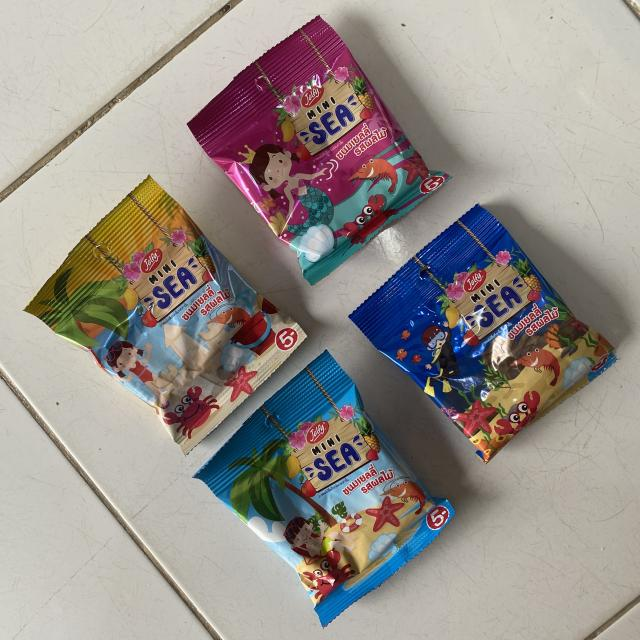plastik: (25, 176, 305, 454), (195, 351, 454, 626), (188, 16, 449, 285), (350, 205, 616, 462)
